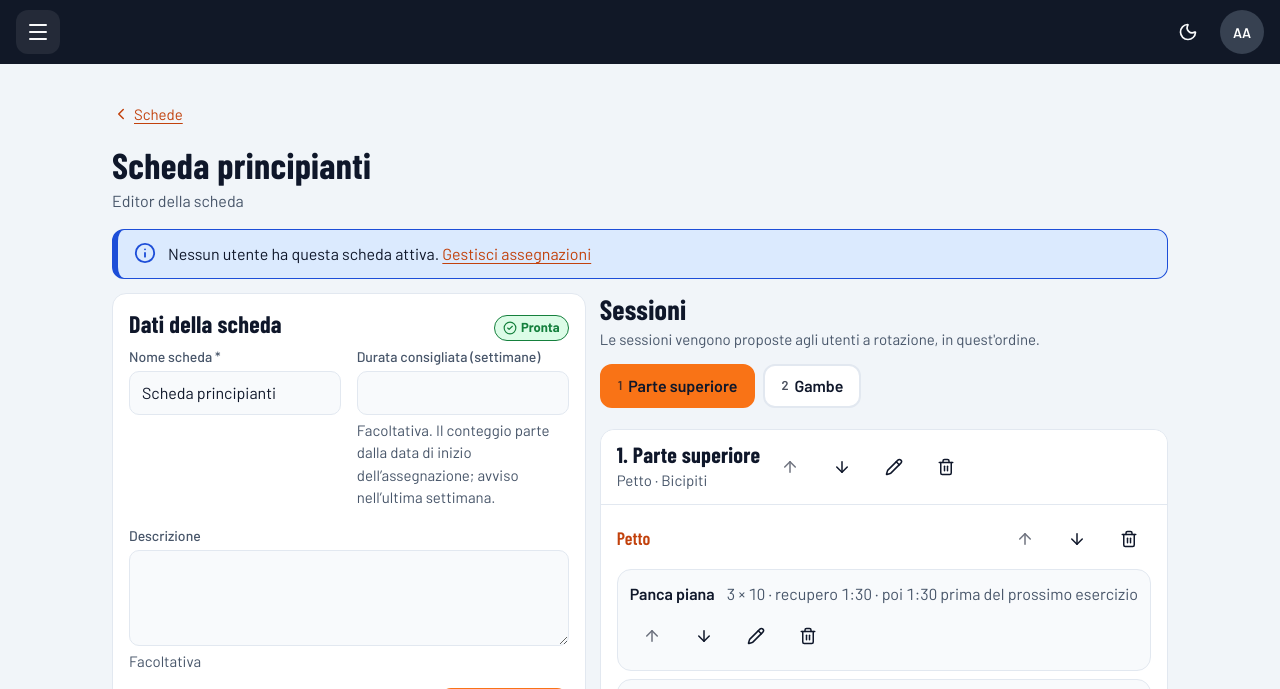
session names › shows the ADMIN names in the editor tabs and card, with the groups as secondary text
Click the tab "2 Gambe".
click(812, 386)  # box [763,364,861,408]
(page scrolled)
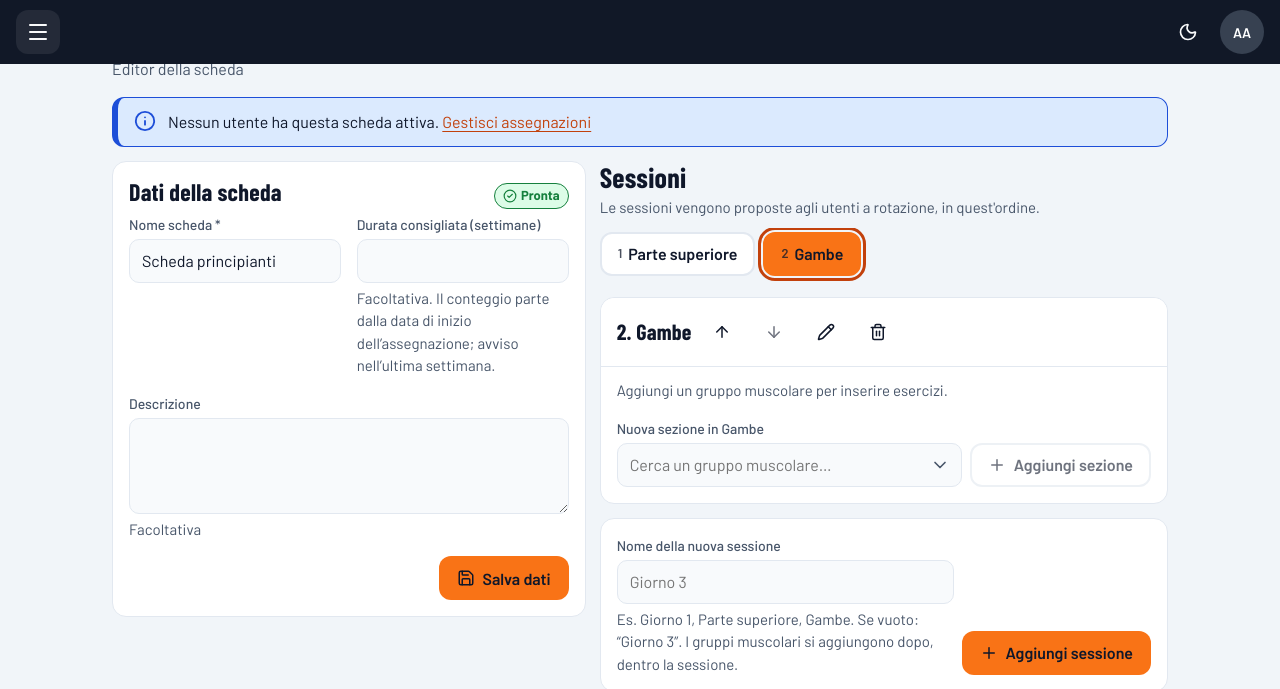
Expected: the heading "2. Gambe" is shown, [617,319,692,345]
